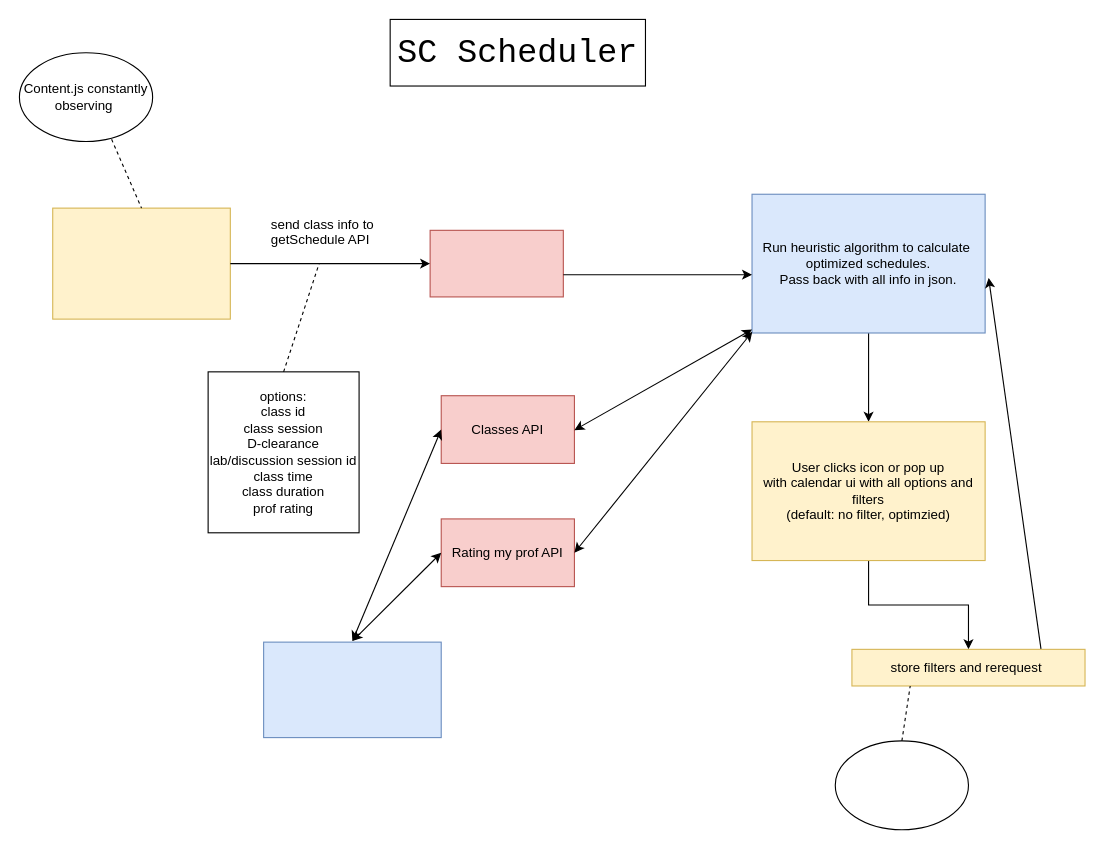
Image size: 1104x849. Some labels were removed from this diagram. The centre of each missing label's shape, as x and y in pixels:
Constantly update API info on server in background: (x=352, y=689)
getSchedule API with class info: (x=496, y=263)
popup.html with calendar ui: (x=901, y=785)
User adds class through buttons on webreg: (x=141, y=263)
